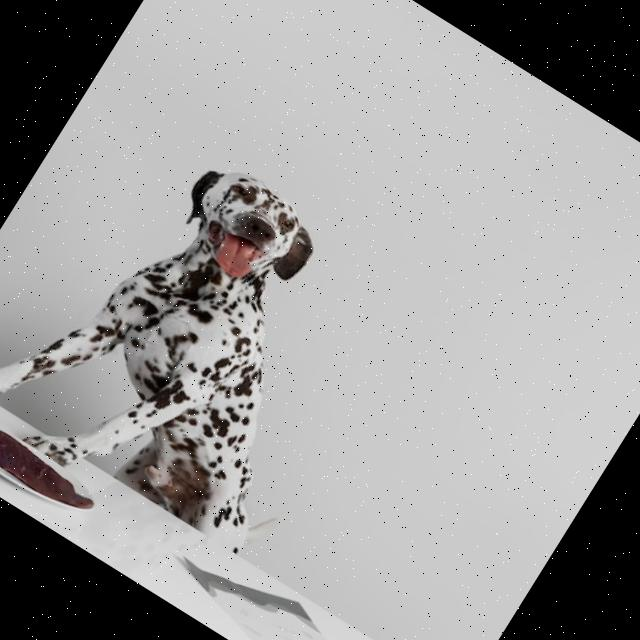Dog: (0, 85, 427, 583)
